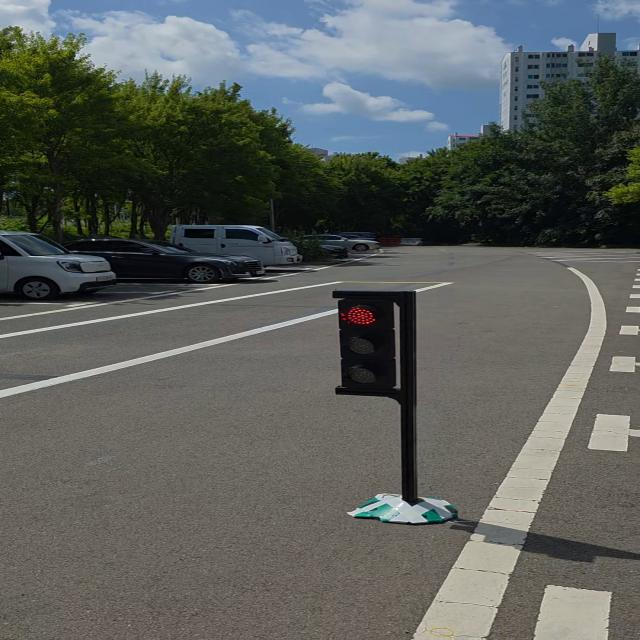red: (328, 284, 410, 404)
